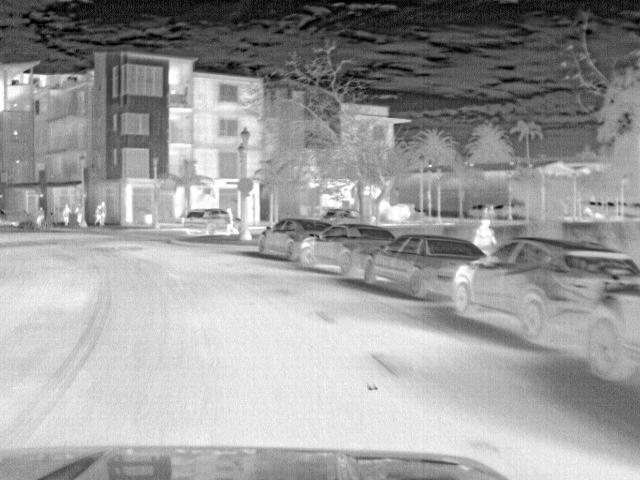car: (452, 236, 639, 341), (360, 236, 485, 294), (580, 281, 639, 393), (298, 221, 395, 271), (259, 218, 329, 260), (181, 208, 228, 236), (465, 204, 492, 218)
person: (473, 215, 499, 251), (223, 207, 241, 239), (33, 202, 49, 228), (70, 198, 83, 226), (60, 203, 72, 229), (97, 198, 109, 224), (91, 201, 103, 225)
